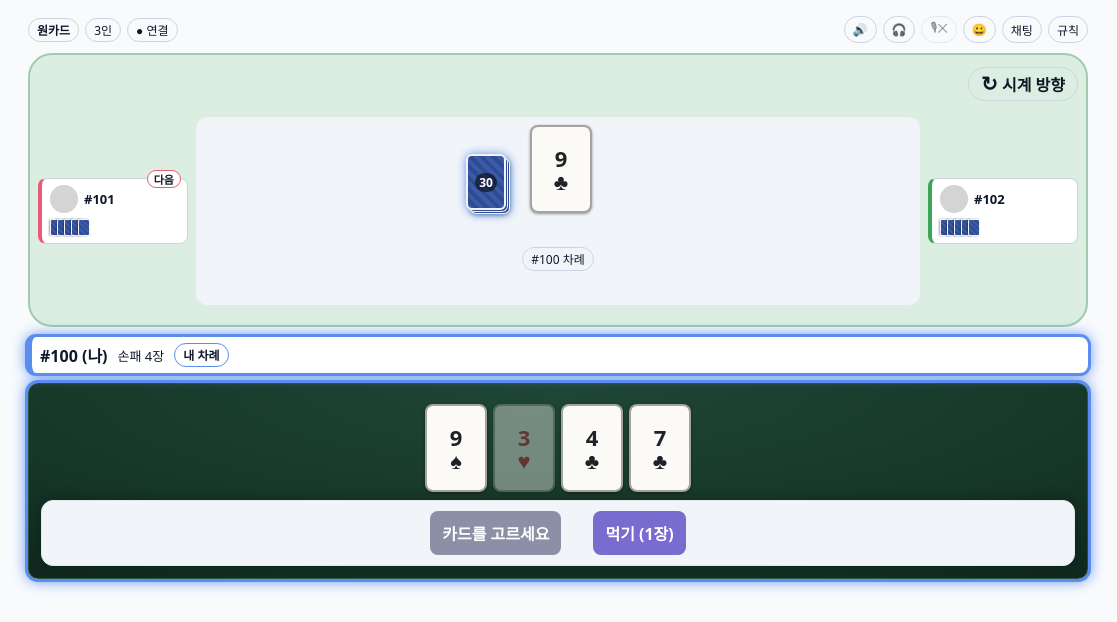
OneCardTable — 더블클릭으로 내기 (D-154) › 7 은 더블클릭해도 보내지 않고 골라 둔다(무늬를 골라야 한다)
Double-click the button named "클로버 7" at (660, 448), box [629,404,691,492]
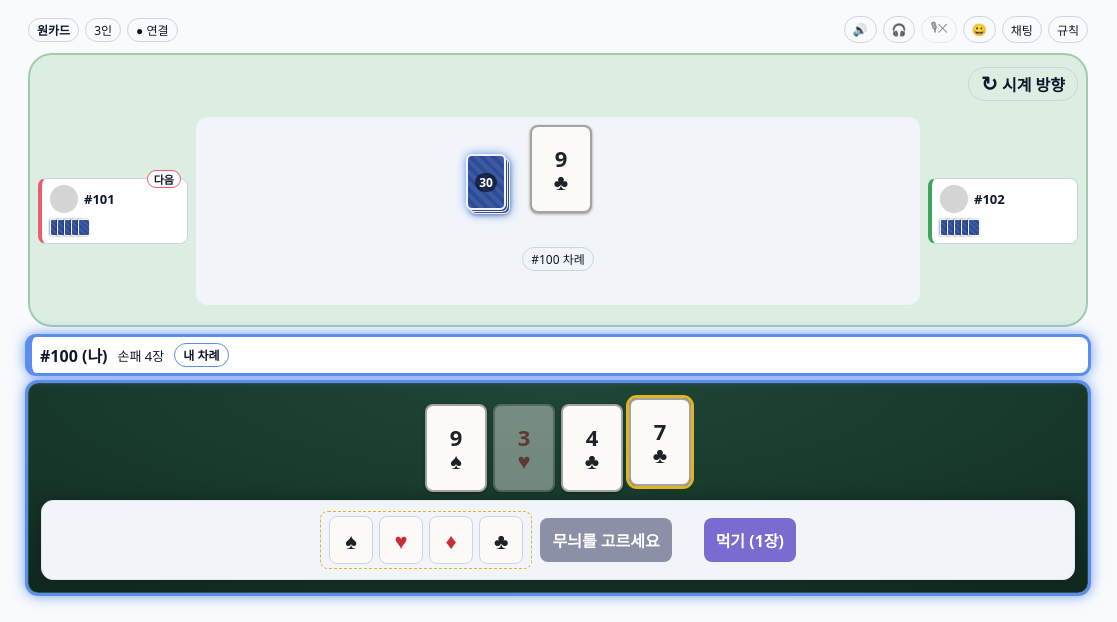
Check: the element named "7 로 지정할 무늬" is shown, box [320,511,532,569]
